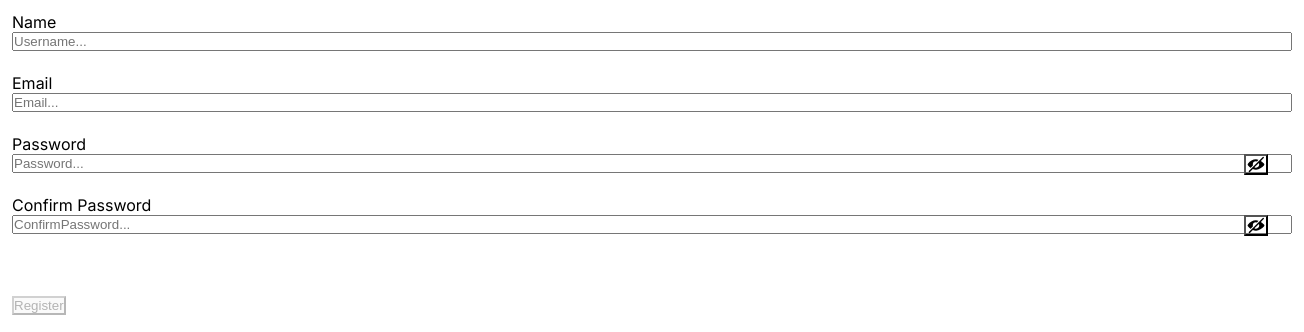
Test: FormRegister Component › Should shows password mismatch error if confirmPassword does not match password
Type "John Doe" into the field labelled "Name" at (652, 42), box [12,32,1292,51]
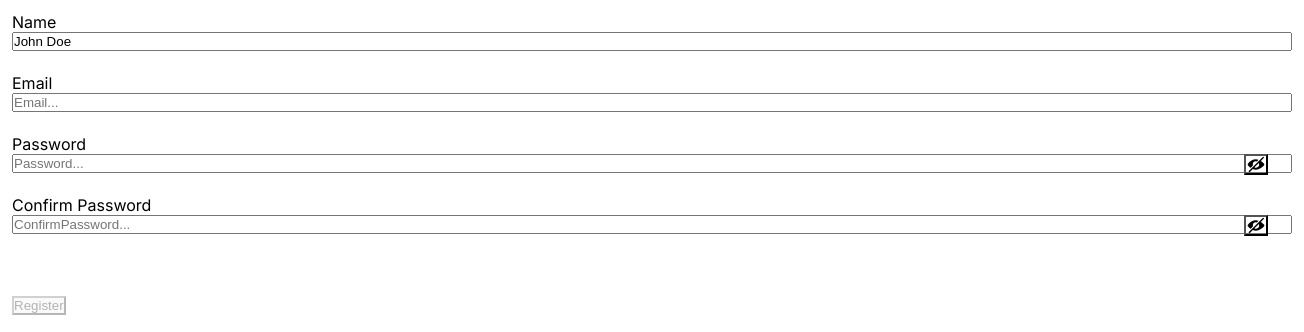
Type "john@example.com" into the field labelled "Email" at (652, 102), box [12,93,1292,112]
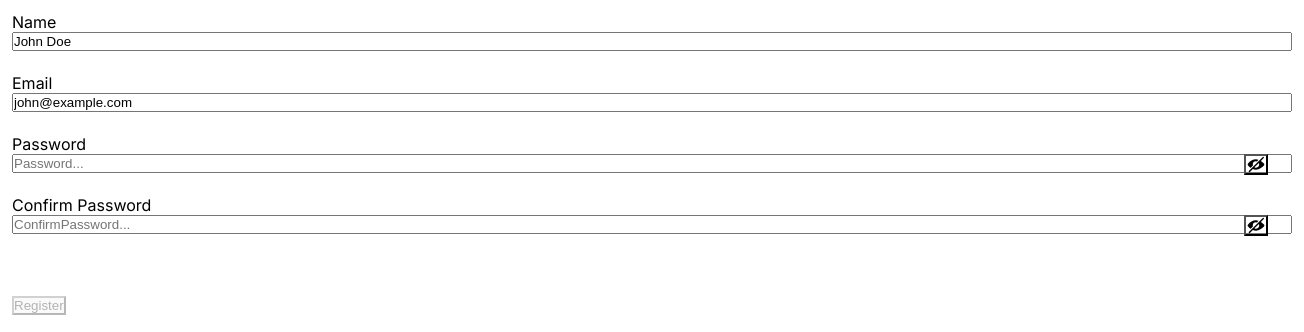
Type "Password123" into the password field labelled "Password" at (652, 164), box [12,154,1292,173]
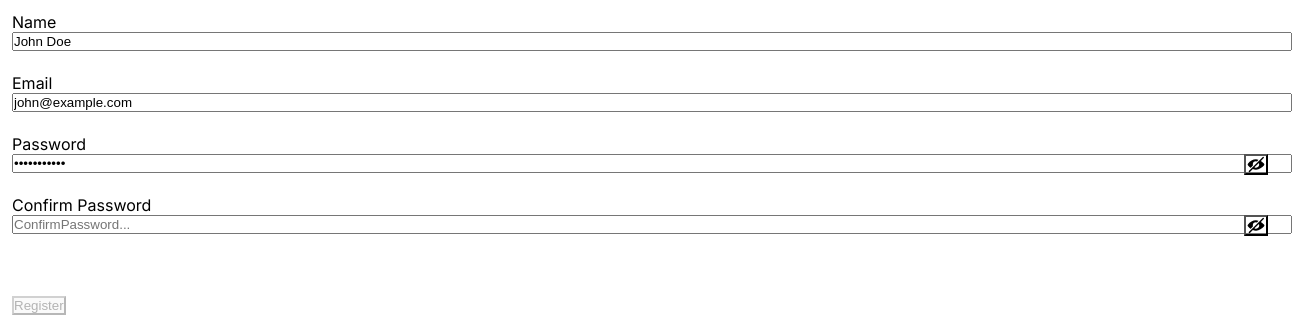
Type "Password123" into the password field labelled "Confirm Password" at (652, 224), box [12,215,1292,234]
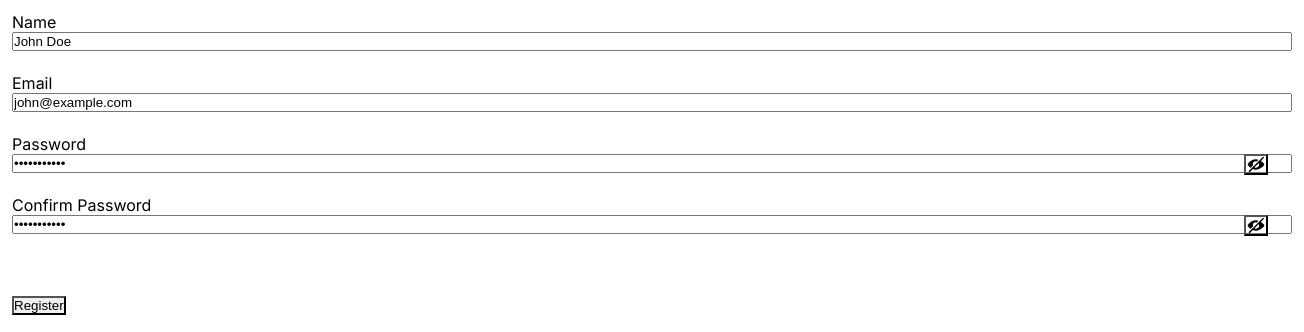
Click the button "Register" at (39, 306), box [12,296,66,315]
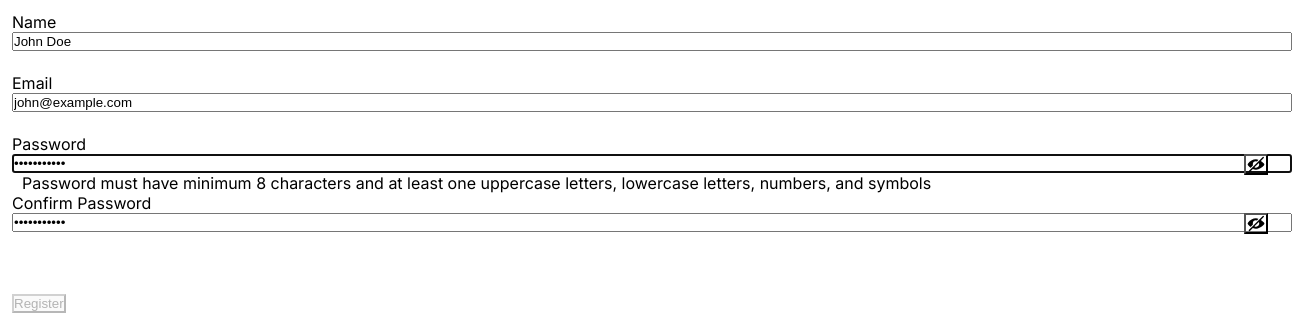
Check: the text "Password must have minimum 8 characters and at least one uppercase letters, lowercase letters, numbers, and symbols" is shown, box [22,173,931,193]
